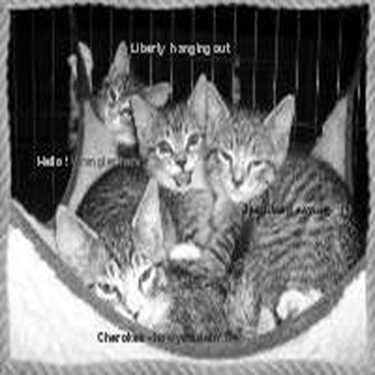cat: (205, 80, 361, 338), (56, 159, 232, 346), (130, 71, 241, 350), (65, 35, 172, 169)
